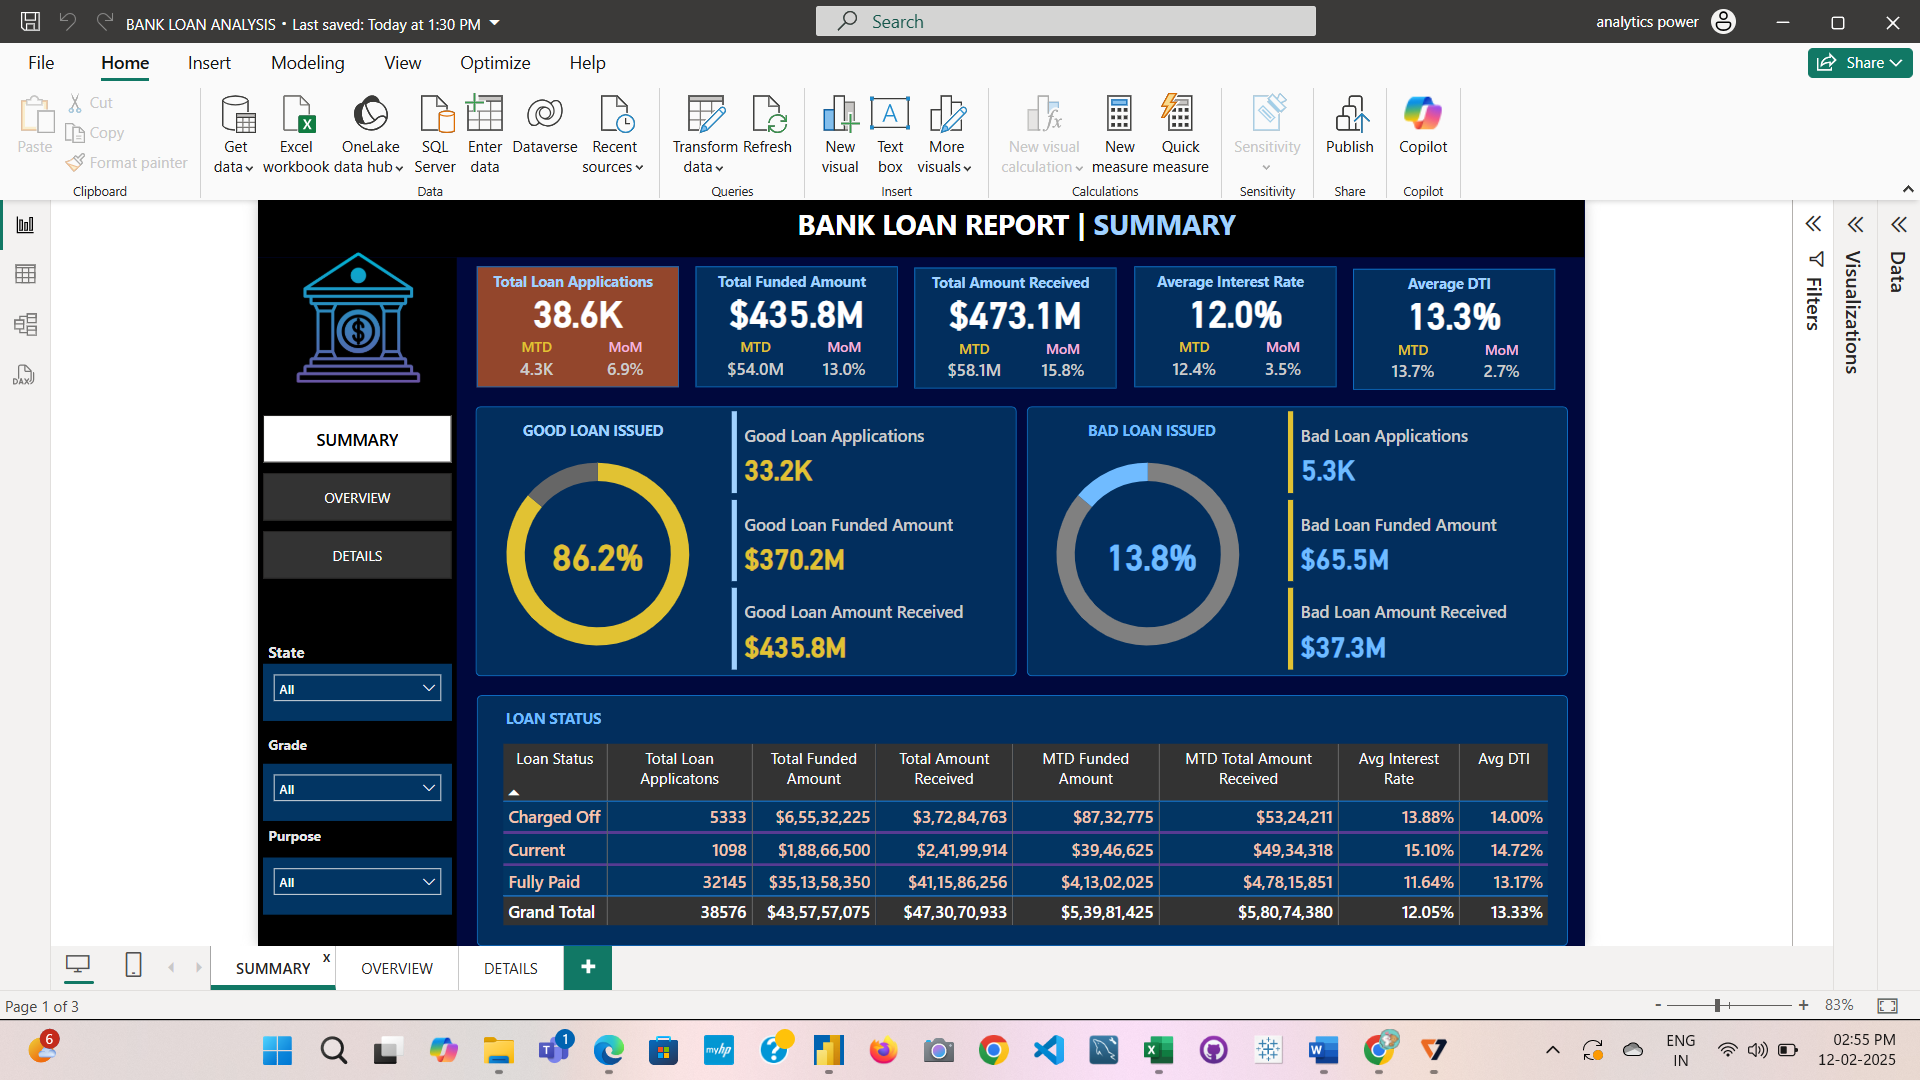

Layout of this report page (visuals, bound fields, positions):
{"tool":"powerbi","page":{"name":"SUMMARY","canvas":[1280,720],"ordinal":0},"visuals":[{"type":"shape","box":[211.1,477.8,1053.2,242.5],"z":0},{"type":"shape","box":[209.9,199.1,522.4,260.6],"z":1000},{"type":"donutChart","fields":{"Category":["bank_loan_data.Good vs Bad Loan"],"Y":["bank_loan_data.Total Loan Applicatons"]},"box":[211.1,226.8,234,230.4],"z":2000},{"type":"shape","box":[0,0,1280,55.5],"z":3000},{"type":"shape","box":[211.2,63.9,195.4,117],"z":3000,"group":"g1"},{"type":"shape","box":[422.6,63.9,195.4,117],"z":3000,"group":"g2"},{"type":"shape","box":[845.5,63.9,195.4,117],"z":3000,"group":"g4"},{"type":"shape","box":[634,65.1,195.4,117],"z":3000,"group":"g3"},{"type":"shape","box":[1056.9,66.4,195.4,117],"z":3000,"group":"g5"},{"type":"shape","box":[0,55.5,191.8,664.7],"z":4000},{"type":"card","fields":{"Values":["bank_loan_data.Total Loan Applicatons"]},"box":[211.2,83.2,195.4,48.3],"z":4000,"group":"g1"},{"type":"card","fields":{"Values":["bank_loan_data.Total Funded Amount"]},"box":[422.6,83.2,195.4,48.3],"z":4000,"group":"g2"},{"type":"card","fields":{"Values":["bank_loan_data.Avg Interest Rate"]},"box":[845.5,83.2,195.4,48.3],"z":4000,"group":"g4"},{"type":"card","fields":{"Values":["bank_loan_data.Total Amount Received"]},"box":[634,84.4,195.4,48.3],"z":4000,"group":"g3"},{"type":"card","fields":{"Values":["bank_loan_data.Avg DTI"]},"box":[1056.9,85.7,195.4,48.3],"z":4000,"group":"g5"},{"type":"textbox","box":[499.5,0,465.7,55.5],"z":5000},{"type":"textbox","box":[201.5,63.9,205.1,32.6],"z":5000,"group":"g1"},{"type":"textbox","box":[412.9,63.9,205.1,32.6],"z":5000,"group":"g2"},{"type":"textbox","box":[835.8,63.9,205.1,32.6],"z":5000,"group":"g4"},{"type":"textbox","box":[624.3,65.1,205.1,32.6],"z":5000,"group":"g3"},{"type":"textbox","box":[1047.2,66.4,205.1,32.6],"z":5000,"group":"g5"},{"type":"group","id":"g1","title":"Group 1","box":[201.5,63.9,205.1,117],"z":6000},{"type":"card","title":"MTD","fields":{"Values":["bank_loan_data.MTD Loan Applications"]},"box":[234.1,132.7,70,44.6],"z":6000,"group":"g1"},{"type":"card","title":"MTD","fields":{"Values":["bank_loan_data.MTD Funded Amount"]},"box":[445.5,132.7,70,44.6],"z":6000,"group":"g2"},{"type":"card","title":"MTD","fields":{"Values":["bank_loan_data.MTD Average Int Rate"]},"box":[868.4,132.7,70,44.6],"z":6000,"group":"g4"},{"type":"card","title":"MTD","fields":{"Values":["bank_loan_data.MTD Total Amount Received"]},"box":[656.9,133.9,70,44.6],"z":6000,"group":"g3"},{"type":"card","title":"MTD","fields":{"Values":["bank_loan_data.MTD Average DTI"]},"box":[1079.8,135.2,70,44.6],"z":6000,"group":"g5"},{"type":"group","id":"g2","title":"Group 1","box":[412.9,63.9,205.1,117],"z":7000},{"type":"card","title":"MoM","fields":{"Values":["bank_loan_data.MoM Loan Applications"]},"box":[319.7,132.7,70,44.6],"z":7000,"group":"g1"},{"type":"card","title":"MoM","fields":{"Values":["bank_loan_data.MoM Total Funded Amount"]},"box":[531.1,132.7,70,44.6],"z":7000,"group":"g2"},{"type":"card","title":"MoM","fields":{"Values":["bank_loan_data.MoM Avg Int Rate"]},"box":[954,132.7,70,44.6],"z":7000,"group":"g4"},{"type":"card","title":"MoM","fields":{"Values":["bank_loan_data.MoM Total Amount Received"]},"box":[742.5,133.9,70,44.6],"z":7000,"group":"g3"},{"type":"card","title":"MoM","fields":{"Values":["bank_loan_data.MoM Avg DTI"]},"box":[1165.4,135.2,70,44.6],"z":7000,"group":"g5"},{"type":"card","fields":{"Values":["bank_loan_data.Good Loan %"]},"box":[259.4,318.5,137.5,48.3],"z":8000},{"type":"group","id":"g3","title":"Group 1","box":[624.3,65.1,205.1,117],"z":9000},{"type":"group","id":"g4","title":"Group 1","box":[835.8,63.9,205.1,117],"z":10000},{"type":"group","id":"g5","title":"Group 1","box":[1047.2,66.4,205.1,117],"z":11000},{"type":"shape","box":[742,199.1,522.4,260.6],"z":12000},{"type":"textbox","box":[234,207.5,178.6,37.4],"z":13000},{"type":"cardVisual","fields":{"Data":["bank_loan_data.Good Loan Applications","bank_loan_data.Good Loan Funded Amount","bank_loan_data.Good Loan Amount Received"]},"box":[452.4,199.1,273.9,260.6],"z":14000},{"type":"donutChart","fields":{"Category":["bank_loan_data.Good vs Bad Loan"],"Y":["bank_loan_data.Total Loan Applicatons"]},"box":[742,226.8,234,230.4],"z":15000},{"type":"textbox","box":[760.1,207.5,205.1,37.4],"z":16000},{"type":"card","fields":{"Values":["bank_loan_data.Bad Loan %"]},"box":[793.8,318.5,137.5,48.3],"z":17000},{"type":"cardVisual","fields":{"Data":["bank_loan_data.Bad Loan Applications","bank_loan_data.Bad Loan Funded Amount","bank_loan_data.Bad Loan Amount Received"]},"box":[989.3,199.1,273.9,260.6],"z":18000},{"type":"tableEx","fields":{"Values":["bank_loan_data.loan_status","bank_loan_data.Total Loan Applicatons","bank_loan_data.Total Funded Amount","bank_loan_data.Total Amount Received","bank_loan_data.MTD Funded Amount","bank_loan_data.MTD Total Amount Received","bank_loan_data.Avg Interest Rate","bank_loan_data.Avg DTI"]},"box":[230.4,520,1047.2,191.8],"z":19000},{"type":"textbox","box":[234,486.2,166.5,33.8],"z":20000},{"type":"slicer","fields":{"Values":["bank_loan_data.address_state"]},"box":[4.8,447.6,182.2,55.5],"z":21000},{"type":"textbox","box":[4.8,421,107.4,36.2],"z":22000},{"type":"slicer","fields":{"Values":["bank_loan_data.grade"]},"box":[4.8,544.1,182.2,55.5],"z":23000},{"type":"textbox","box":[4.8,511.5,182.2,32.6],"z":24000},{"type":"slicer","fields":{"Values":["bank_loan_data.purpose"]},"box":[4.8,634.6,182.2,55.5],"z":25000},{"type":"textbox","box":[4.8,599.6,182.2,35],"z":26000},{"type":"image","box":[13.3,45.8,166.5,135.1],"z":27000},{"type":"pageNavigator","box":[4.8,207.5,182.2,159.3],"z":28000}]}

Visuals, with their boxes on the page's 1280x720 design canvas (x1, y1, x2, y2). These are canvas units, not pixel positions in the 1920x1080 screenshot, which may show the page scaled, cropped or inside an application window:
shape: <region>211, 478, 1264, 720</region>
shape: <region>210, 199, 732, 460</region>
donutChart - bank_loan_data.Good vs Bad Loan x bank_loan_data.Total Loan Applicatons: <region>211, 227, 445, 457</region>
shape: <region>0, 0, 1280, 56</region>
shape: <region>211, 64, 407, 181</region>
shape: <region>423, 64, 618, 181</region>
shape: <region>846, 64, 1041, 181</region>
shape: <region>634, 65, 829, 182</region>
shape: <region>1057, 66, 1252, 183</region>
shape: <region>0, 56, 192, 720</region>
card - bank_loan_data.Total Loan Applicatons: <region>211, 83, 407, 132</region>
card - bank_loan_data.Total Funded Amount: <region>423, 83, 618, 132</region>
card - bank_loan_data.Avg Interest Rate: <region>846, 83, 1041, 132</region>
card - bank_loan_data.Total Amount Received: <region>634, 84, 829, 133</region>
card - bank_loan_data.Avg DTI: <region>1057, 86, 1252, 134</region>
textbox: <region>500, 0, 965, 56</region>
textbox: <region>202, 64, 407, 96</region>
textbox: <region>413, 64, 618, 96</region>
textbox: <region>836, 64, 1041, 96</region>
textbox: <region>624, 65, 829, 98</region>
textbox: <region>1047, 66, 1252, 99</region>
"Group 1" group: <region>202, 64, 407, 181</region>
"MTD" card: <region>234, 133, 304, 177</region>
"MTD" card: <region>446, 133, 516, 177</region>
"MTD" card: <region>868, 133, 938, 177</region>
"MTD" card: <region>657, 134, 727, 178</region>
"MTD" card: <region>1080, 135, 1150, 180</region>
"Group 1" group: <region>413, 64, 618, 181</region>
"MoM" card: <region>320, 133, 390, 177</region>
"MoM" card: <region>531, 133, 601, 177</region>
"MoM" card: <region>954, 133, 1024, 177</region>
"MoM" card: <region>742, 134, 812, 178</region>
"MoM" card: <region>1165, 135, 1235, 180</region>
card - bank_loan_data.Good Loan %: <region>259, 318, 397, 367</region>
"Group 1" group: <region>624, 65, 829, 182</region>
"Group 1" group: <region>836, 64, 1041, 181</region>
"Group 1" group: <region>1047, 66, 1252, 183</region>
shape: <region>742, 199, 1264, 460</region>
textbox: <region>234, 208, 413, 245</region>
cardVisual - bank_loan_data.Good Loan Applications x bank_loan_data.Good Loan Funded Amount: <region>452, 199, 726, 460</region>
donutChart - bank_loan_data.Good vs Bad Loan x bank_loan_data.Total Loan Applicatons: <region>742, 227, 976, 457</region>
textbox: <region>760, 208, 965, 245</region>
card - bank_loan_data.Bad Loan %: <region>794, 318, 931, 367</region>
cardVisual - bank_loan_data.Bad Loan Applications x bank_loan_data.Bad Loan Funded Amount: <region>989, 199, 1263, 460</region>
tableEx - bank_loan_data.loan_status x bank_loan_data.Total Loan Applicatons: <region>230, 520, 1278, 712</region>
textbox: <region>234, 486, 400, 520</region>
slicer - bank_loan_data.address_state: <region>5, 448, 187, 503</region>
textbox: <region>5, 421, 112, 457</region>
slicer - bank_loan_data.grade: <region>5, 544, 187, 600</region>
textbox: <region>5, 512, 187, 544</region>
slicer - bank_loan_data.purpose: <region>5, 635, 187, 690</region>
textbox: <region>5, 600, 187, 635</region>
image: <region>13, 46, 180, 181</region>
pageNavigator: <region>5, 208, 187, 367</region>
